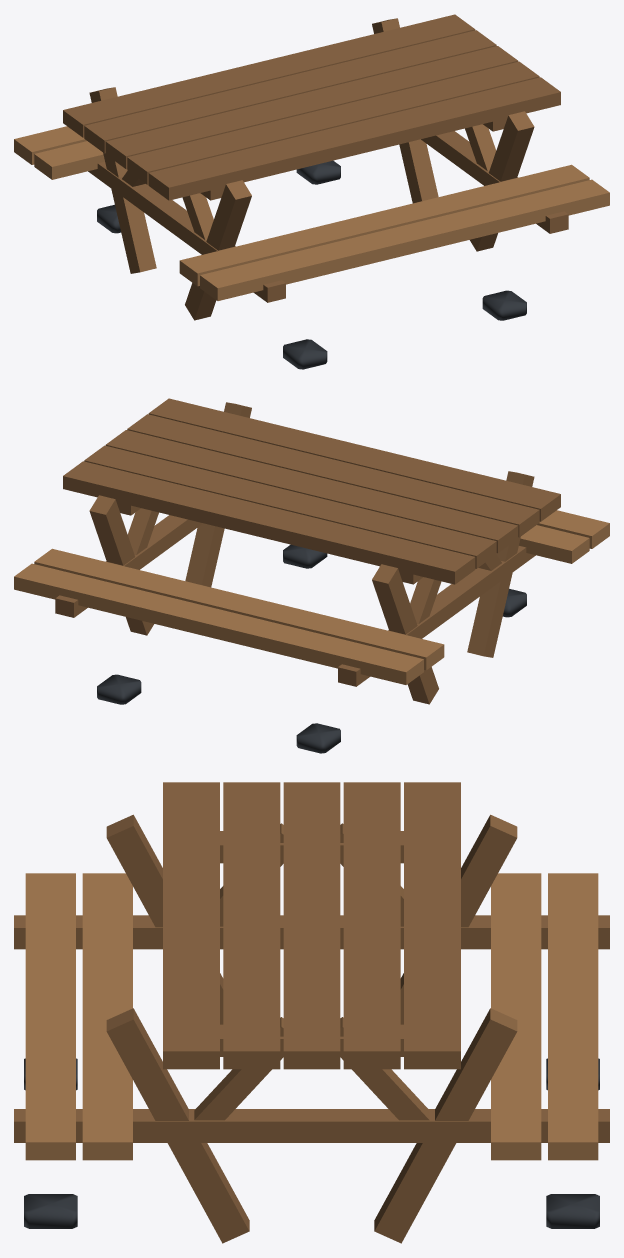
The model's file is picnic-table.glb.
3 renders of one model, top to bottom at view 1: azimuth 30°, elevation 25°; view 2: azimuth 150°, elevation 25°; view 3: azimuth 270°, elevation 25°, orthographic. The views are drawn at different scales.
Parts seen in each view (by area): view 1: Merged_city-timber, Merged_city-timber-light, Merged_city-metal-dark; view 2: Merged_city-timber, Merged_city-timber-light, Merged_city-metal-dark; view 3: Merged_city-timber, Merged_city-timber-light, Merged_city-metal-dark.
Part boxes in pixels (x1,y1,x2,y2): Merged_city-timber: (63,14,568,320); Merged_city-timber-light: (14,126,609,300); Merged_city-metal-dark: (97,160,526,369); Merged_city-timber: (55,398,560,704); Merged_city-timber-light: (14,510,609,684); Merged_city-metal-dark: (97,544,526,753); Merged_city-timber: (14,782,609,1243); Merged_city-timber-light: (25,873,598,1160); Merged_city-metal-dark: (24,1058,599,1228).
Size of what is drawn, in the model's own units: 1.9 by 0.77 by 1.78.
